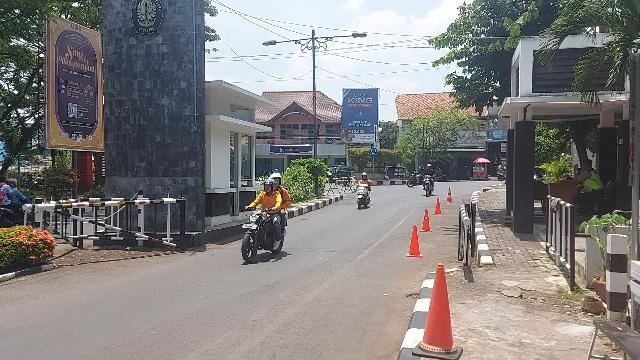helm: (265, 180, 278, 195), (271, 173, 283, 187), (362, 174, 368, 181)
motor: (242, 205, 289, 265), (355, 182, 373, 210)
